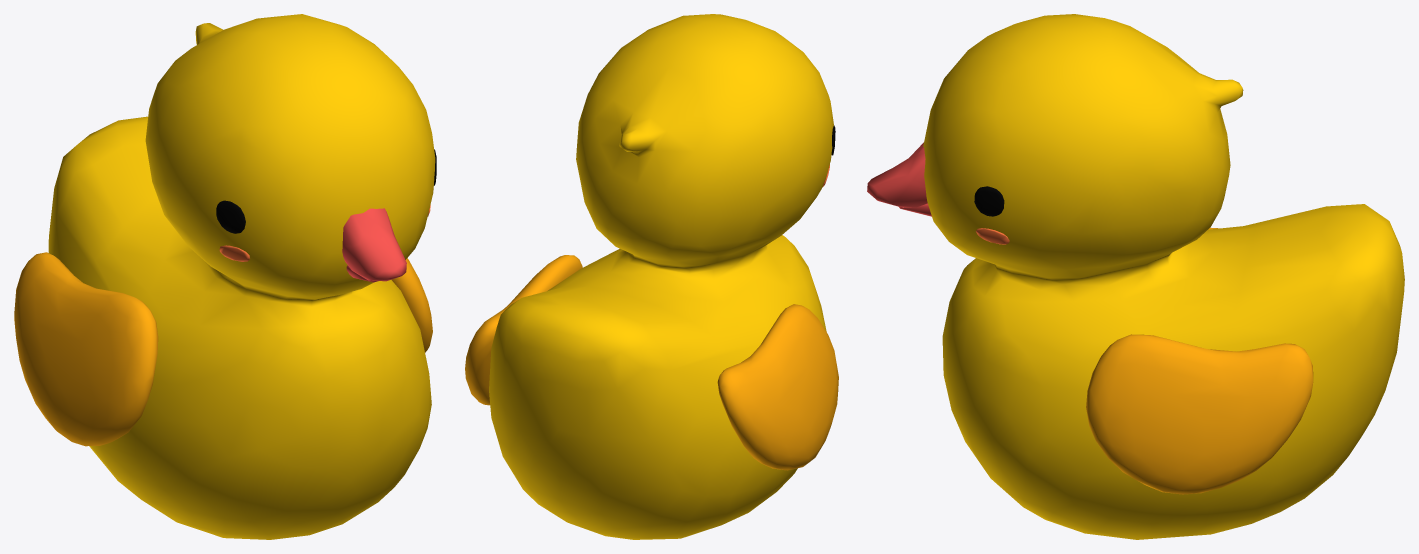
Rendered from RubberDuck.fbx.
3 renders of one model, left to right at view 1: azimuth 30°, elevation 25°; view 2: azimuth 150°, elevation 25°; view 3: azimuth 270°, elevation 25°, orthographic. The views are drawn at different scales.
Parts seen in each view (by area): view 1: Duck; view 2: Duck; view 3: Duck.
Boxes of the visible parts, x1,y1,x2,y2 form: Duck: (14,14,436,539); Duck: (465,14,838,539); Duck: (867,14,1404,539).
Size of the model in its own units: 387 by 541 by 536.
